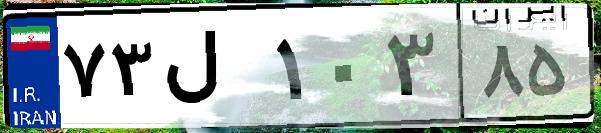0: (330, 28, 385, 110)
1: (270, 28, 330, 110)
3: (385, 28, 445, 110), (110, 28, 158, 98)
5: (525, 38, 570, 115)
7: (57, 26, 110, 100)
8: (475, 38, 525, 113)
ل: (158, 20, 270, 120)
